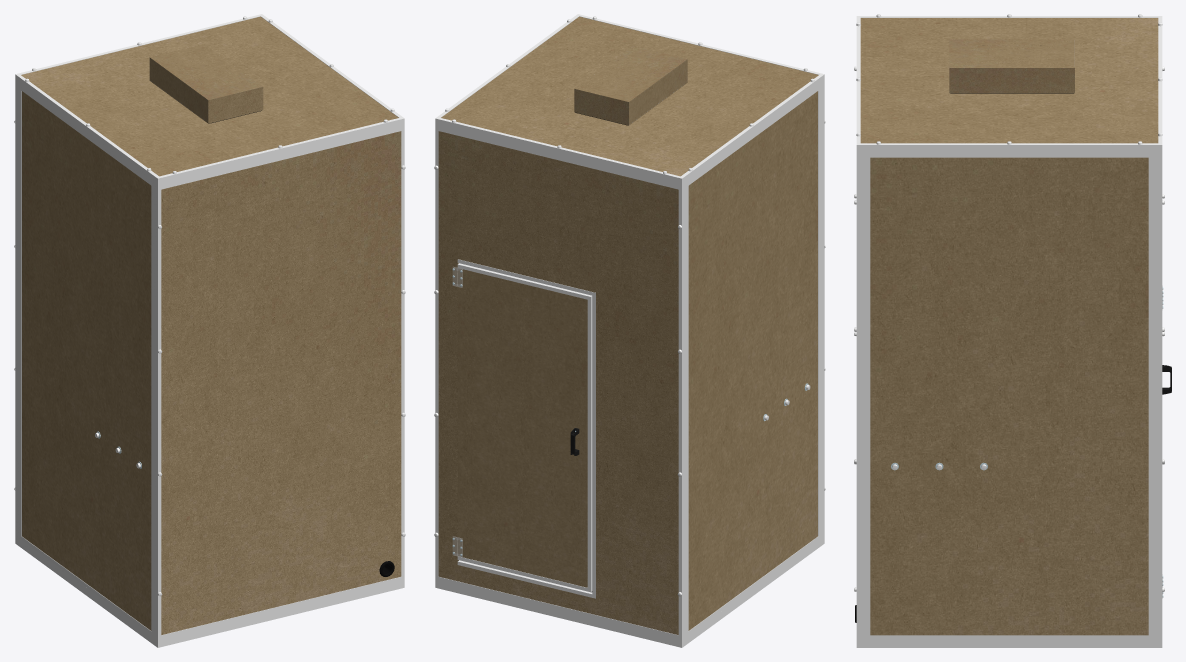
The model's file is danbocchi_grande-v6stl_m2-lowply_joint.fbx.
3 renders of one model, left to right at view 1: azimuth 30°, elevation 25°; view 2: azimuth 150°, elevation 25°; view 3: azimuth 270°, elevation 25°, orthographic. The views are drawn at different scales.
Parts seen in each view (by area): view 1: d6g RearPanel, d6g RightPanel, d6g RoofPanel, d6g Silencer, d6g FloorPanel, d6g FrontPanel; view 2: d6g FrontPanel, d6g RightPanel, d6g DoorPanel, d6g RoofPanel, d6g Silencer, d6g FloorPanel, d6g RearPanel; view 3: d6g LeftPanel, d6g RoofPanel, d6g Silencer, d6g RearPanel, d6g FrontPanel, d6g FloorPanel.
Boxes of the visible parts, x1=… form: d6g RearPanel: x1=153, y1=127, x2=405, y2=639; d6g RightPanel: x1=19, y1=86, x2=153, y2=635; d6g RoofPanel: x1=15, y1=14, x2=404, y2=186; d6g Silencer: x1=149, y1=44, x2=263, y2=123; d6g FloorPanel: x1=15, y1=535, x2=404, y2=647; d6g FrontPanel: x1=14, y1=83, x2=19, y2=538; d6g FrontPanel: x1=434, y1=127, x2=686, y2=639; d6g RightPanel: x1=686, y1=86, x2=820, y2=635; d6g DoorPanel: x1=457, y1=263, x2=592, y2=592; d6g RoofPanel: x1=435, y1=14, x2=824, y2=186; d6g Silencer: x1=574, y1=46, x2=687, y2=125; d6g FloorPanel: x1=435, y1=535, x2=824, y2=647; d6g RearPanel: x1=820, y1=83, x2=825, y2=538; d6g LeftPanel: x1=866, y1=154, x2=1152, y2=639; d6g RoofPanel: x1=856, y1=14, x2=1162, y2=153; d6g Silencer: x1=949, y1=39, x2=1074, y2=93; d6g RearPanel: x1=854, y1=66, x2=866, y2=639; d6g FrontPanel: x1=1152, y1=66, x2=1164, y2=639; d6g FloorPanel: x1=856, y1=639, x2=1162, y2=647.
Size of the model in its own units: 110 by 206 by 112.
